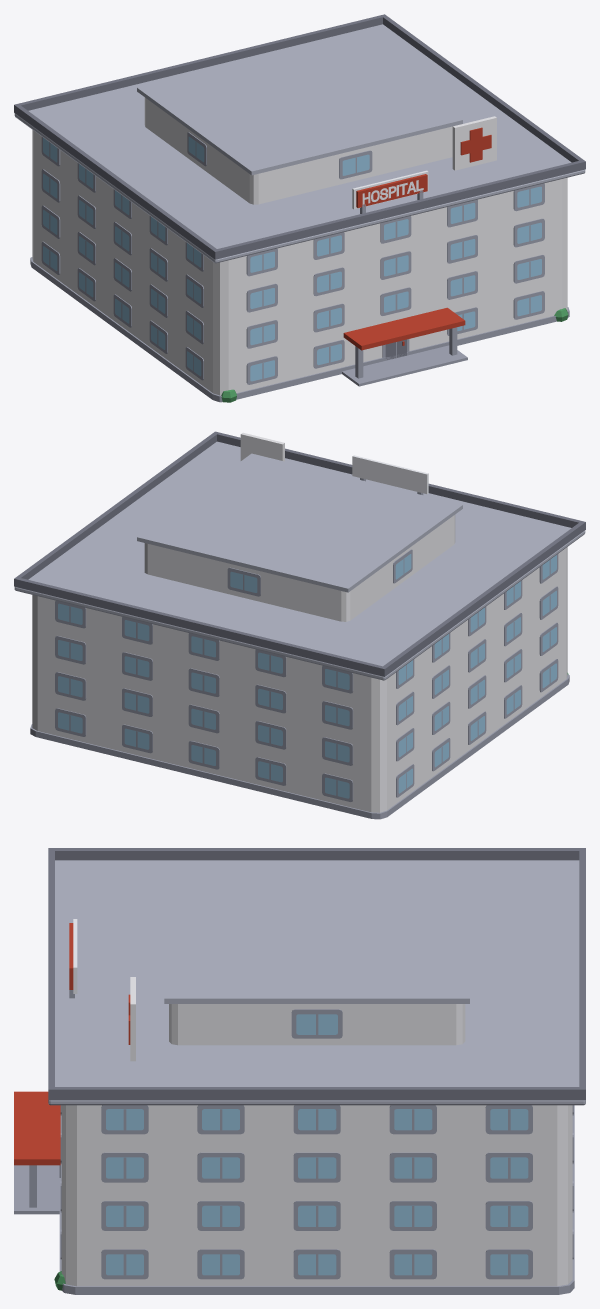
Rendered from hospital-3x3.glb.
3 views of the same model, one above another, from view 1: azimuth 30°, elevation 25°; view 2: azimuth 150°, elevation 25°; view 3: azimuth 270°, elevation 25° (orthographic). The views are drawn at different scales.
Visible parts, largest first — view 1: hospital-3x3; view 2: hospital-3x3; view 3: hospital-3x3.
Boxes of the visible parts, <box> form: hospital-3x3: <box>14,14,585,402</box>; hospital-3x3: <box>14,431,585,819</box>; hospital-3x3: <box>14,848,585,1294</box>.
Bounding box in the file's own units: 3 × 1.49 × 3.
1 material, 1 textured.
